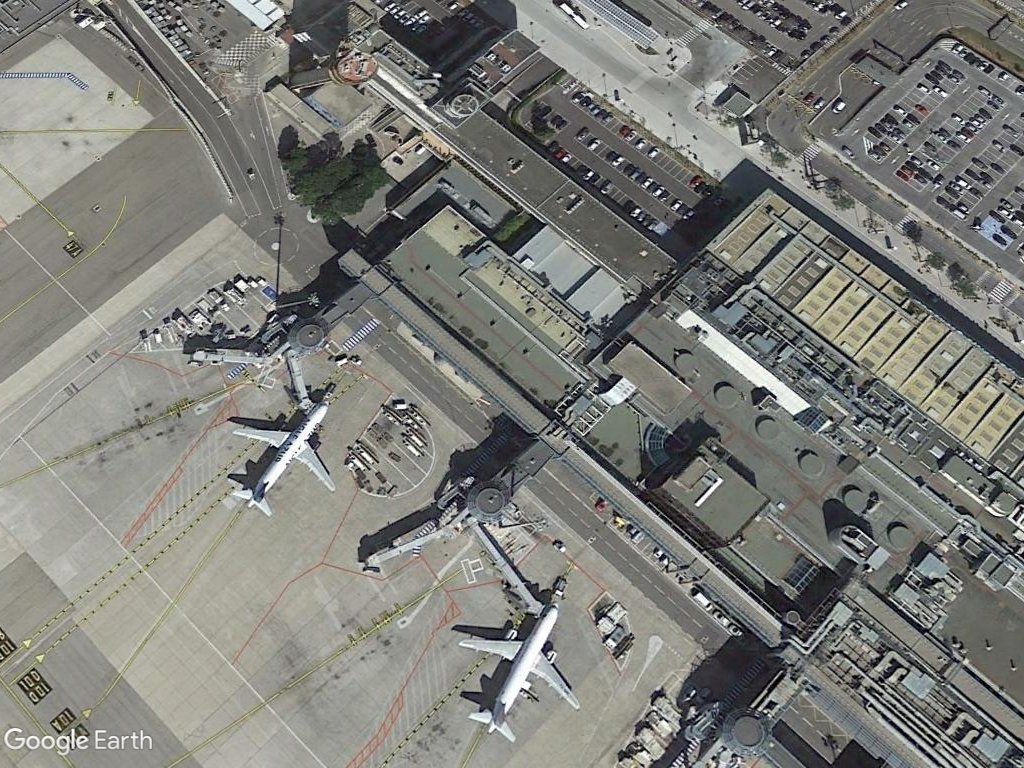airliner: (453, 596, 587, 749), (221, 392, 337, 519)
